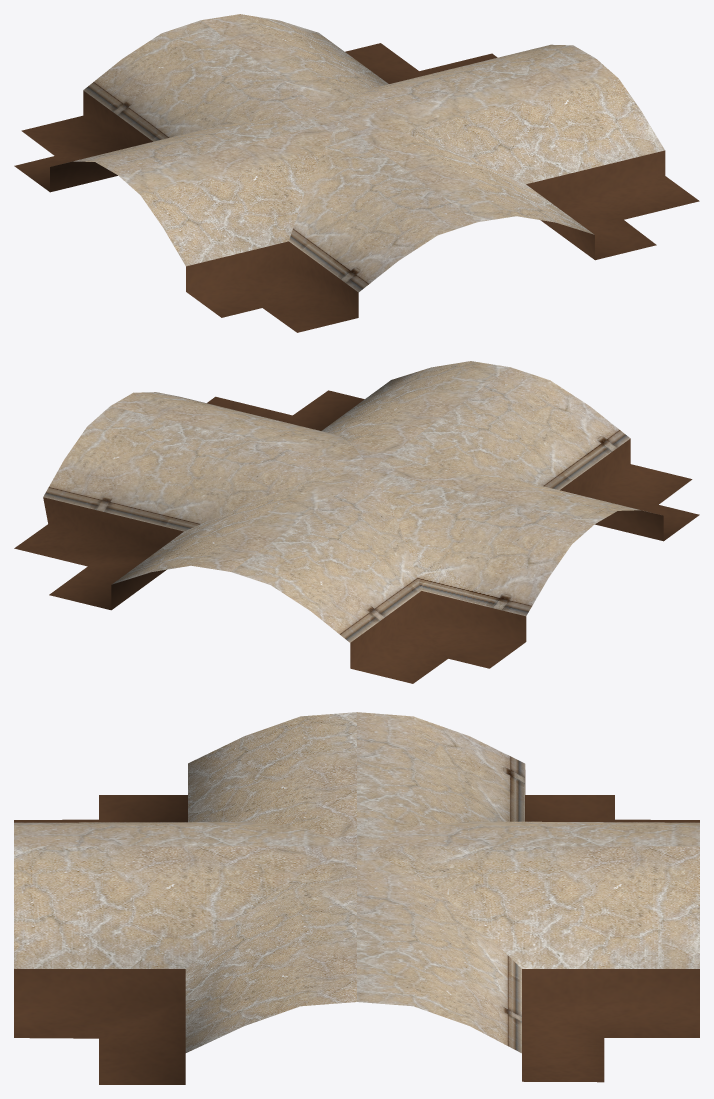
Rendered from Ceiling_4way.fbx.
3 renders of one model, top to bottom at view 1: azimuth 30°, elevation 25°; view 2: azimuth 150°, elevation 25°; view 3: azimuth 270°, elevation 25°, orthographic. The views are drawn at different scales.
Parts seen in each view (by area): view 1: Plane.017; view 2: Plane.017; view 3: Plane.017.
Boxes of the visible parts, x1,y1,x2,y2 form: Plane.017: [14, 14, 699, 332]; Plane.017: [14, 361, 699, 683]; Plane.017: [14, 712, 699, 1084].
Bounding box in the file's own units: 668 × 88.94 × 668.
